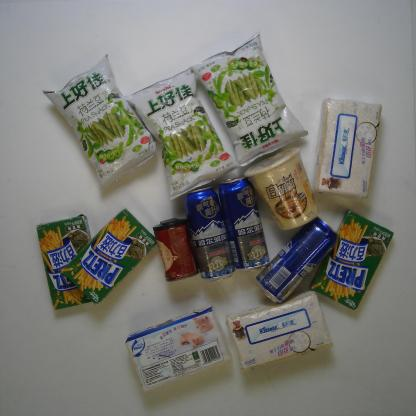Alcohol: (256, 216, 338, 306), (215, 174, 271, 275), (182, 184, 237, 286)
Canned Food: (154, 216, 198, 283)
Dessert: (64, 208, 159, 306), (310, 209, 394, 311), (36, 212, 101, 310)
Instant Noodles: (244, 145, 320, 234)
Puffed Food: (40, 50, 158, 189), (192, 34, 309, 168), (127, 68, 242, 199)
Tissue: (123, 302, 231, 392), (227, 289, 331, 371), (313, 93, 383, 203)
